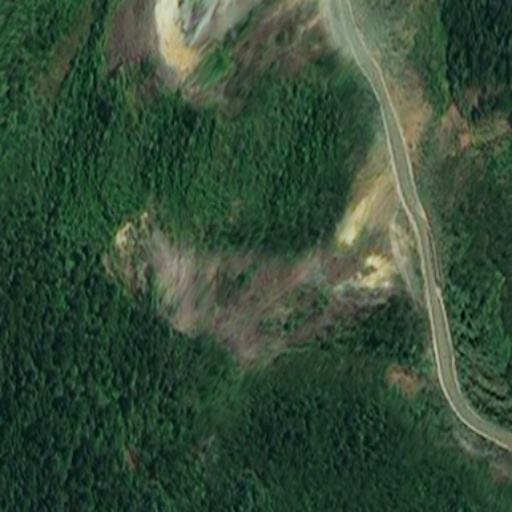landslide: (109, 177, 403, 356)
